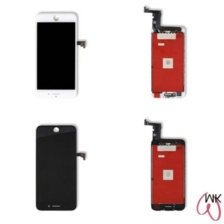phone: (33, 10, 79, 102), (33, 122, 78, 214), (146, 134, 189, 212), (148, 22, 188, 101)
